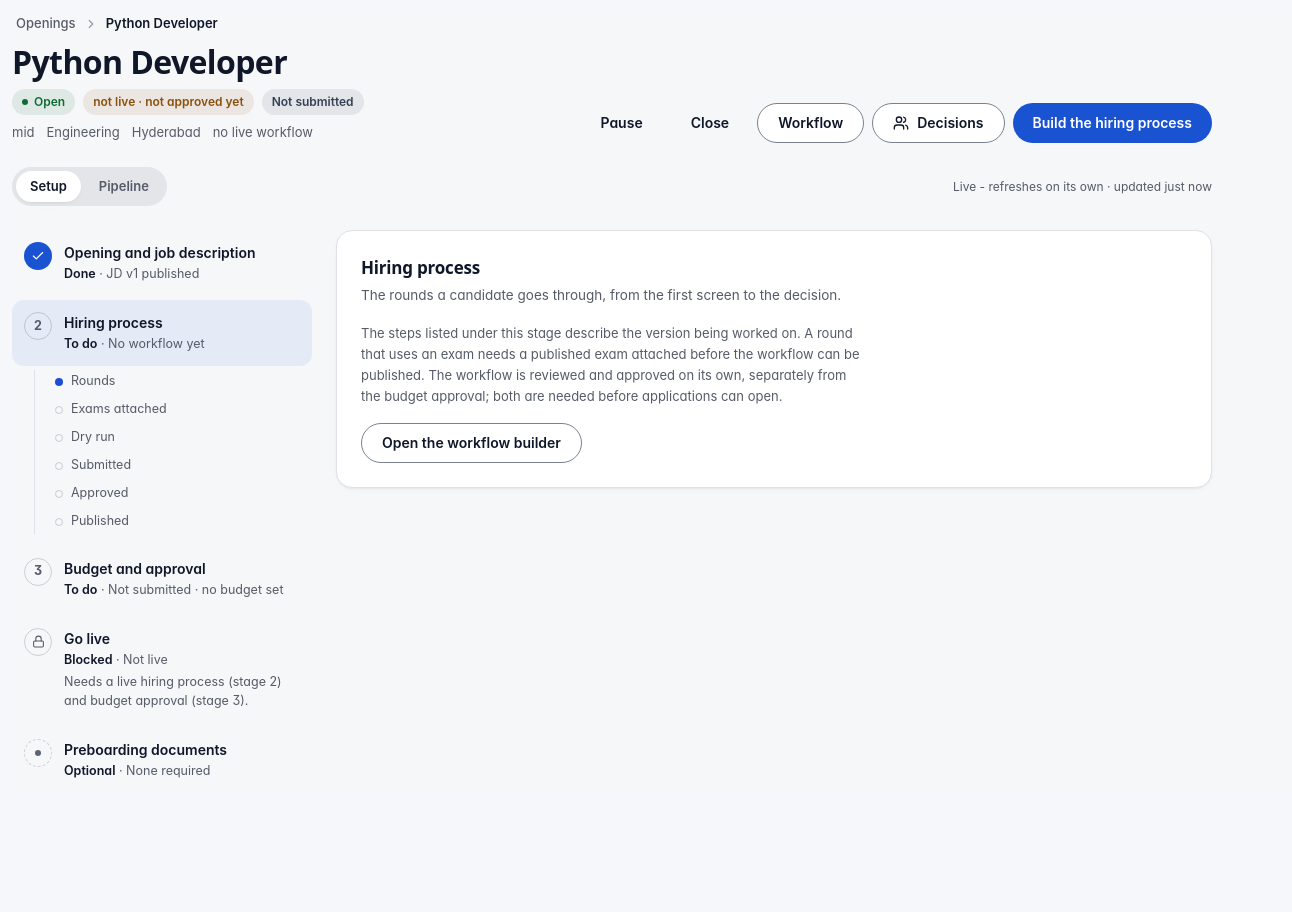
Test: the open stage is not swapped under the user › follows the user once they pick a stage
The width and height of the screenshot is (1292, 912).
Expected: the element with test id "stage-process" is shown, x1=336 y1=230 x2=1212 y2=488
Click the button "3 Budget and approval To do · Not submitted · no budget set". click: (162, 579)
box: x1=12 y1=546 x2=312 y2=612
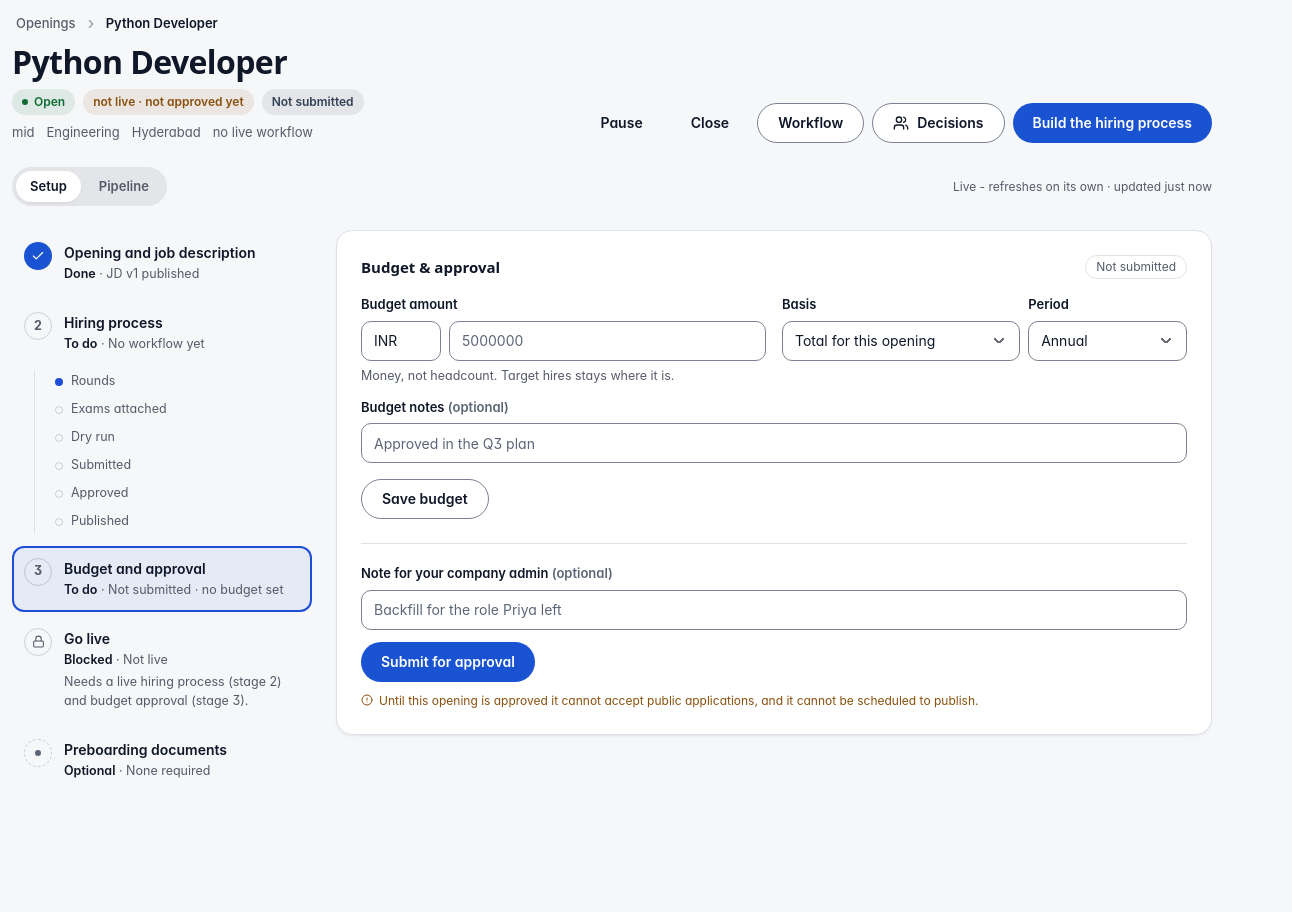
Result: the number field labelled "Budget amount" is shown at x1=449 y1=321 x2=766 y2=361
